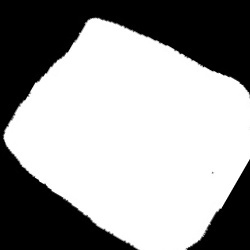spot: (8, 19, 248, 248)
